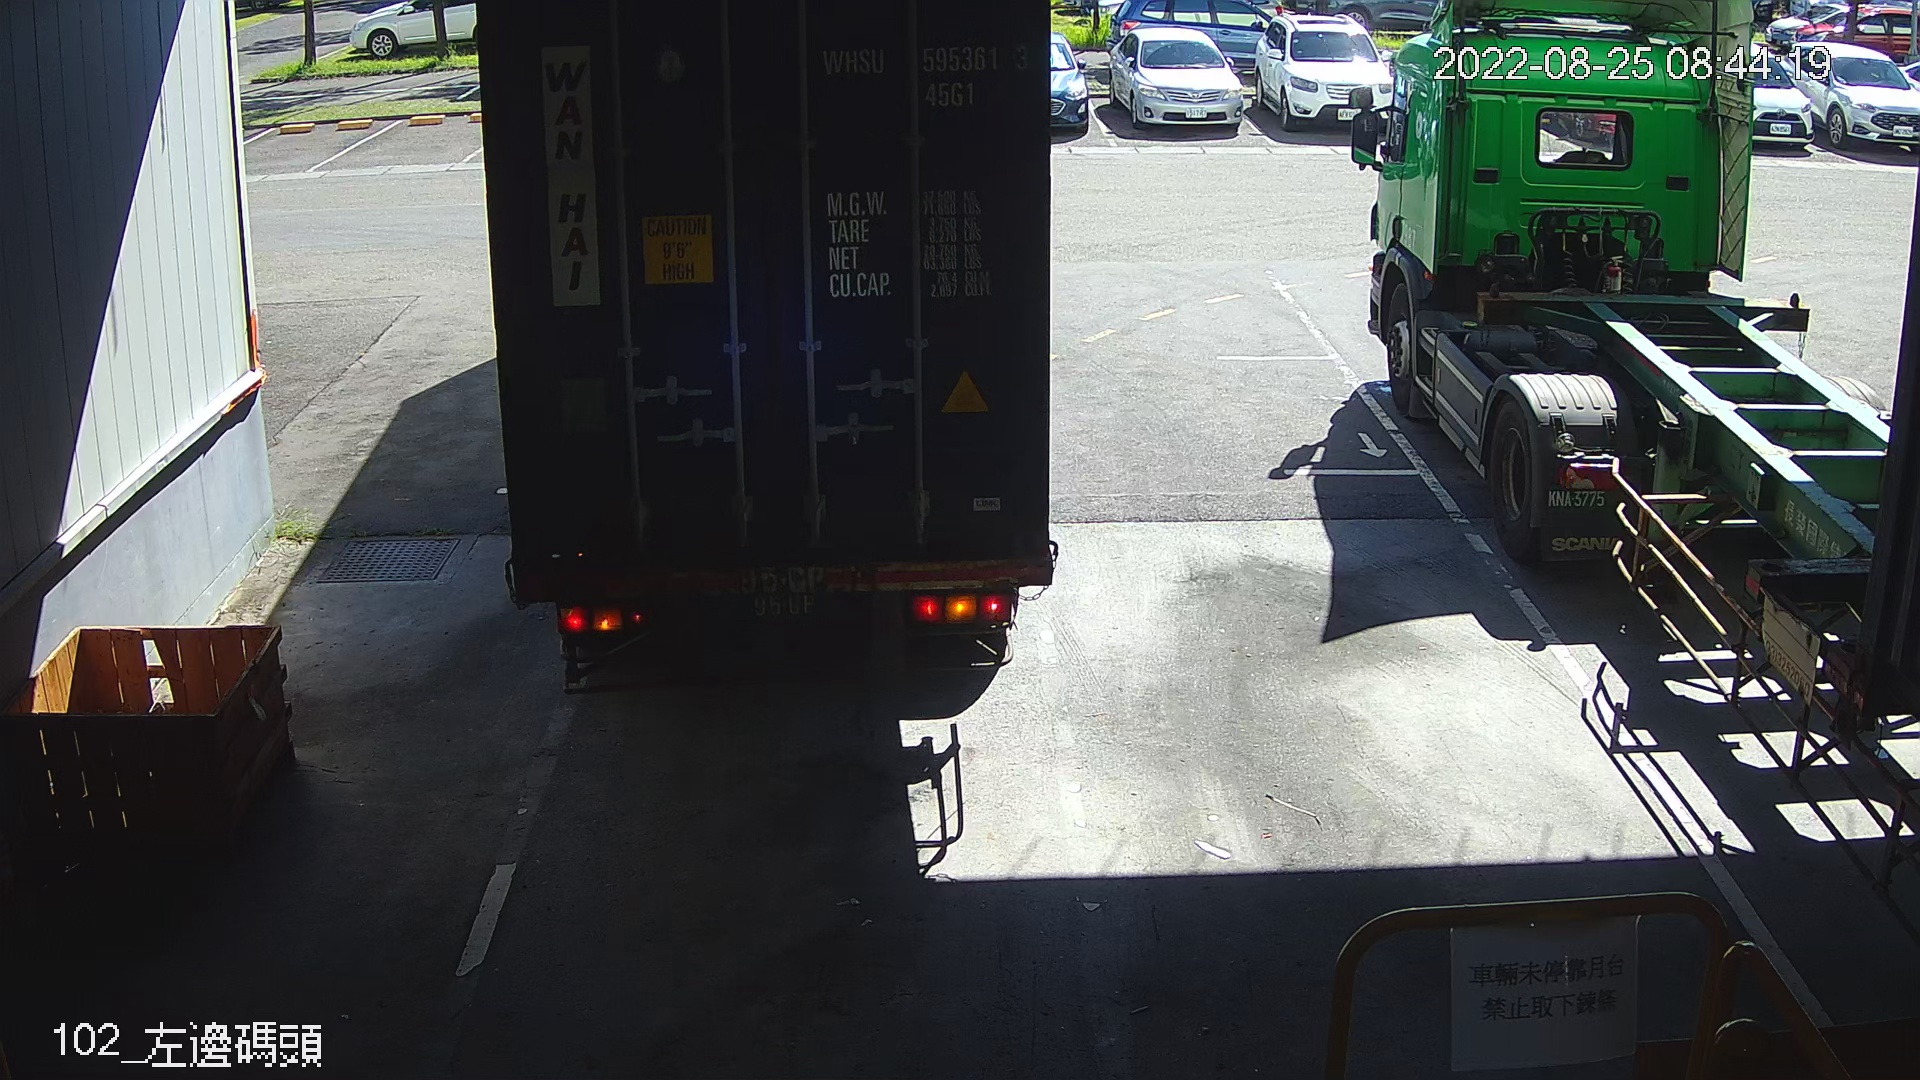container: (814, 36, 1038, 113)
